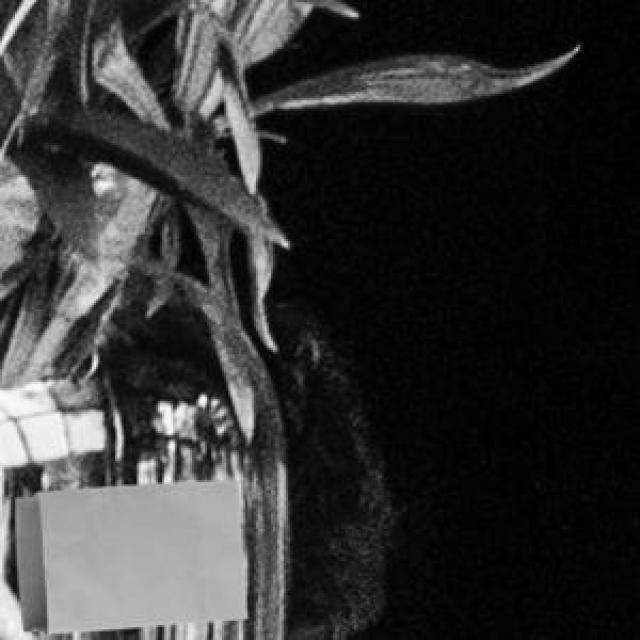paper: (11, 477, 242, 629)
